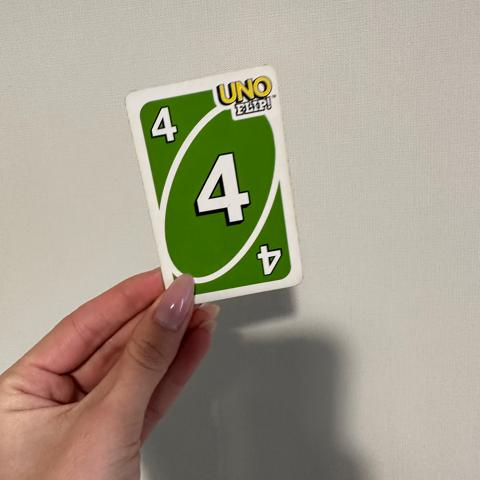lgreen-4: (139, 96, 185, 152)
